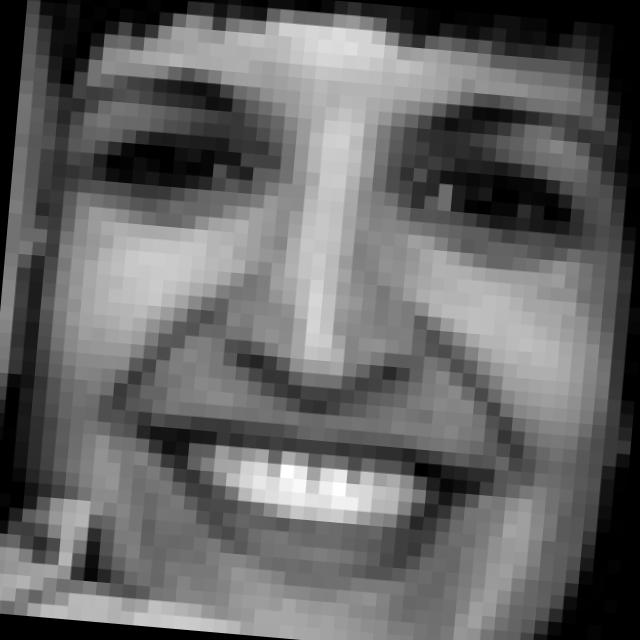happy: (30, 58, 631, 622)
